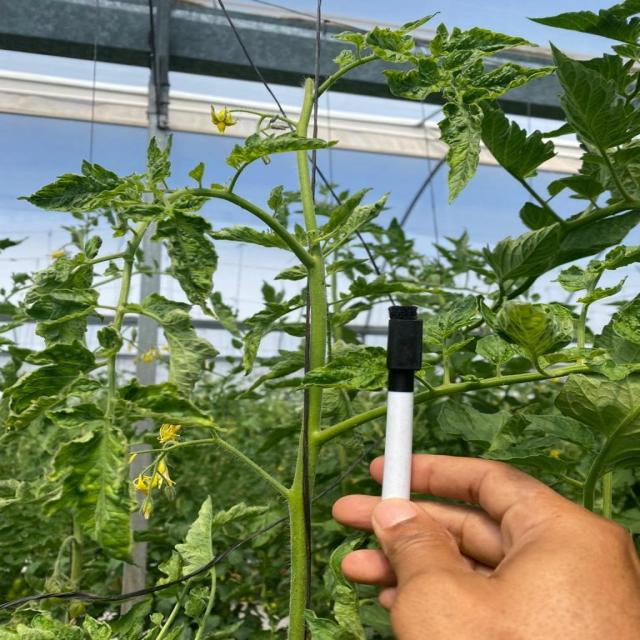T_Fl_H: (211, 106, 239, 136), (158, 459, 176, 487), (134, 475, 151, 494)
T_L_H: (484, 212, 639, 298), (554, 51, 639, 157), (484, 101, 556, 180), (556, 375, 640, 437), (533, 1, 640, 46)
T_L_R: (44, 426, 134, 561), (306, 534, 368, 640), (154, 212, 219, 312), (9, 345, 96, 414), (498, 302, 576, 370), (21, 162, 124, 212), (439, 104, 484, 203), (228, 134, 338, 172), (299, 347, 388, 392), (26, 259, 94, 304), (443, 29, 533, 57), (483, 64, 554, 99), (384, 60, 444, 101), (28, 290, 99, 324), (426, 296, 478, 342), (366, 29, 416, 64), (33, 612, 84, 640), (38, 316, 87, 345), (613, 296, 640, 345), (456, 62, 486, 89), (84, 616, 111, 640)
T_S_H: (416, 364, 589, 404), (297, 152, 324, 372), (584, 407, 640, 512), (289, 392, 309, 640), (314, 407, 386, 445), (300, 79, 311, 137)
T_S_R: (214, 434, 289, 498)
